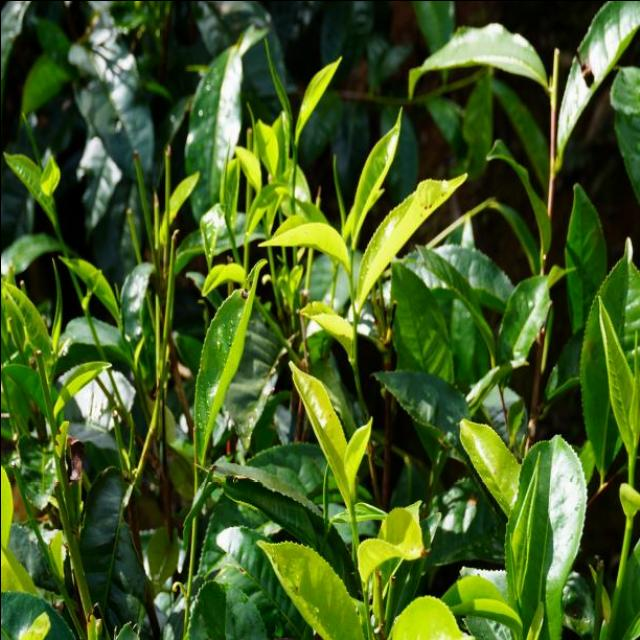Stem: (627, 453, 635, 465), (348, 501, 354, 511), (291, 143, 297, 151), (348, 274, 352, 280)
